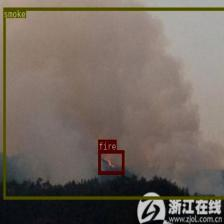fire: (98, 150, 124, 174)
smoke: (3, 7, 224, 198)
